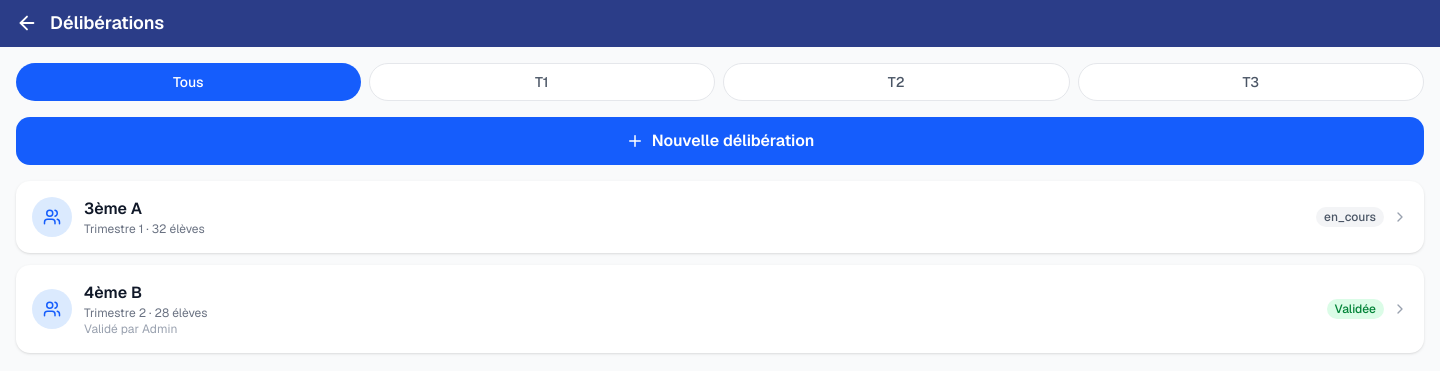
Admin Délibérations › filtre par période T1
The image size is (1440, 371).
Expected: the text "3ème A" is shown, [84,198,142,218]
Click the button "T1" at (542, 82), box [368,62,715,100]
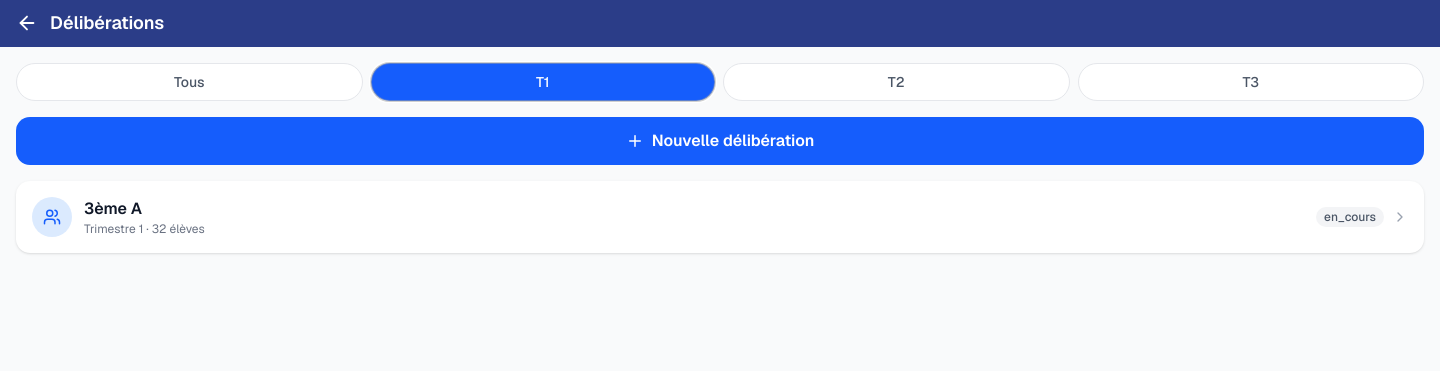
Expected: the text "3ème A" is shown, [84,198,142,218]
Expected: the button "4ème B" is gone
